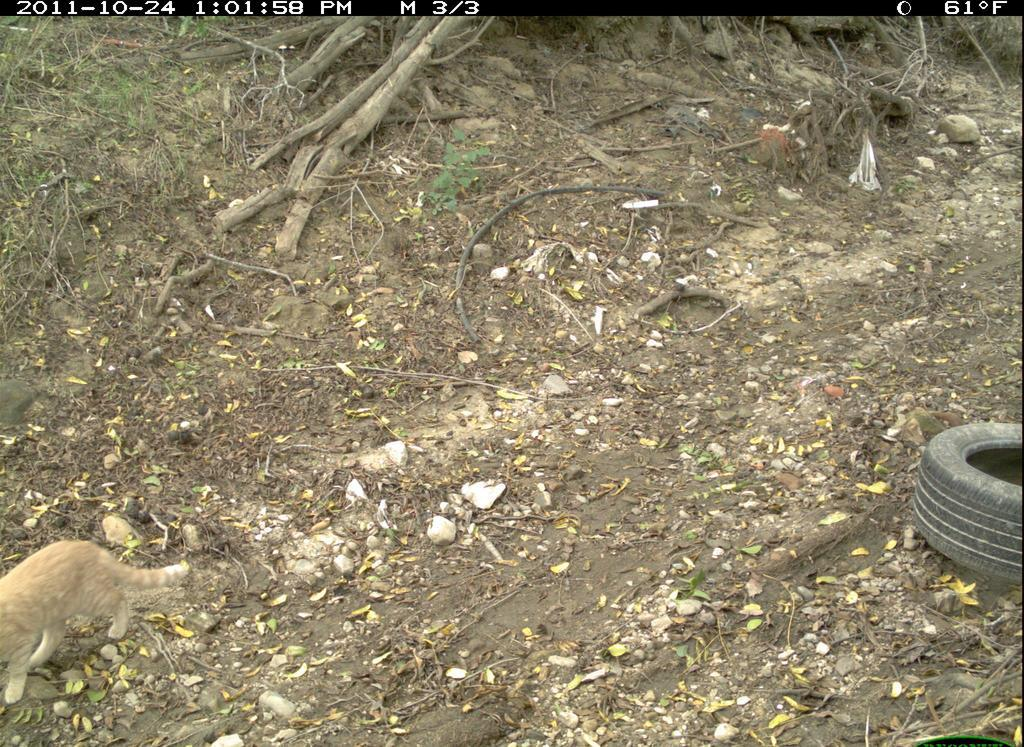cat: (2, 528, 195, 705)
